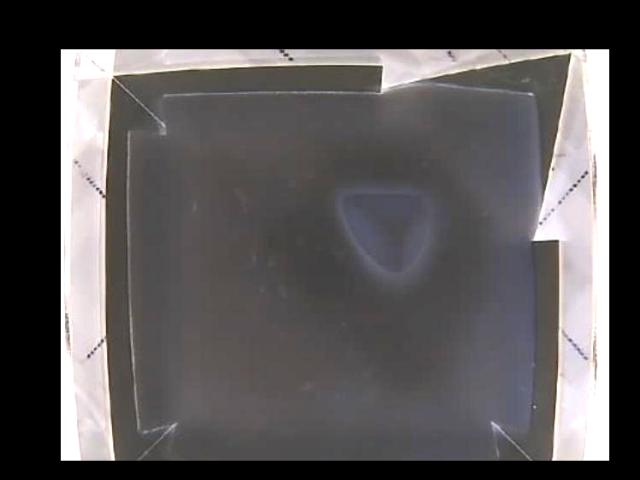Mooli: (339, 192, 430, 273)
